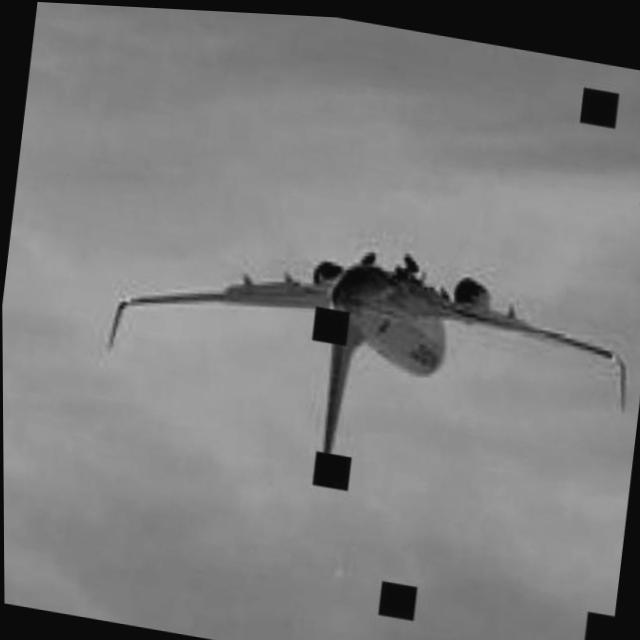aeroplane: (94, 197, 640, 496)
